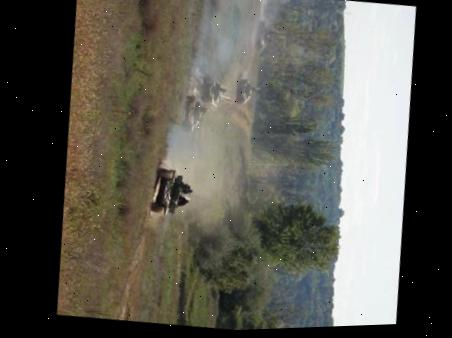tank: (146, 165, 196, 217), (177, 92, 207, 135), (199, 76, 233, 110), (234, 76, 263, 107), (252, 18, 275, 52)
